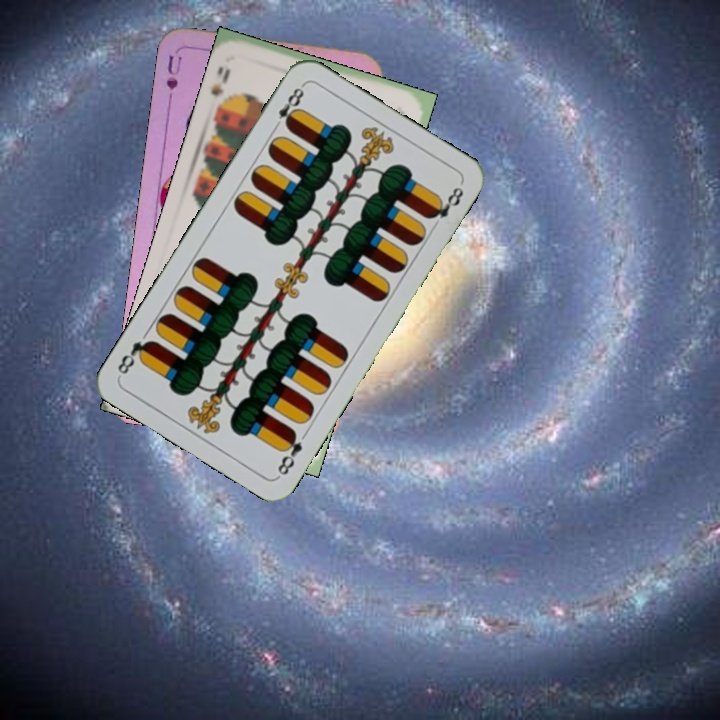E8: (268, 81, 307, 133), (273, 426, 306, 479)
S9: (206, 62, 233, 114)
SU: (162, 51, 185, 110)
